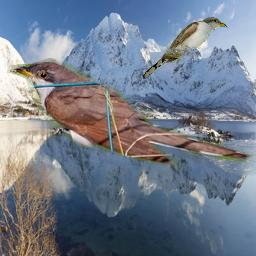Cuckoo: (7, 55, 255, 175), (141, 16, 229, 79)
